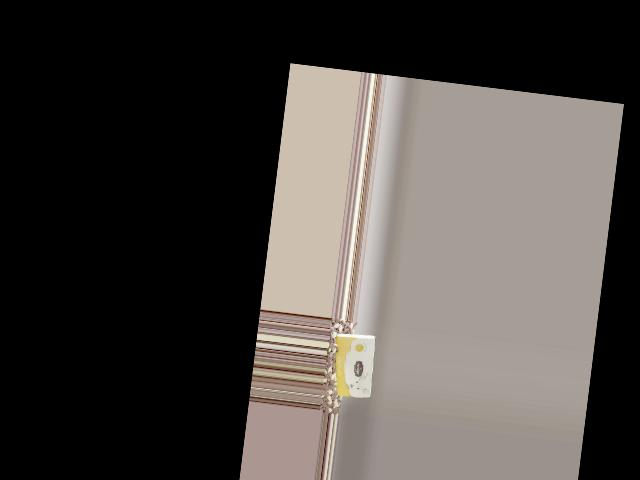chocolate: (326, 328, 380, 403)
